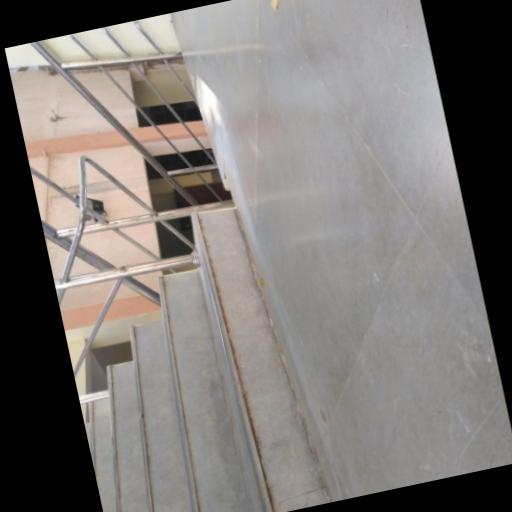stairs: (87, 209, 329, 511)
